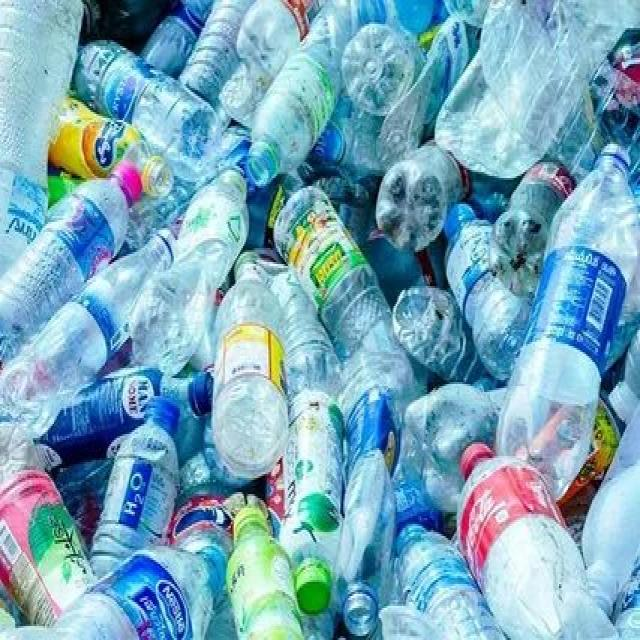blue: (79, 43, 220, 167), (442, 218, 533, 380), (58, 367, 198, 455)
